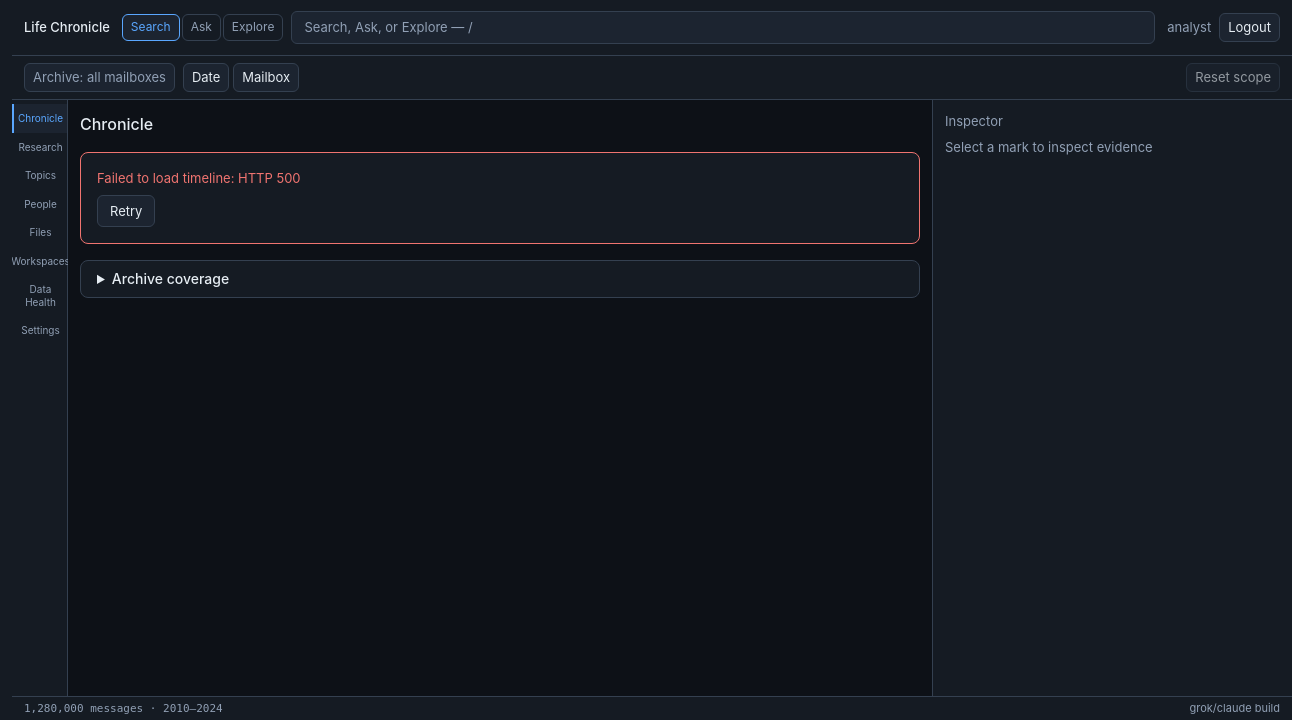
Scenario: ChroniclePage timeline › error → Retry refetches
Expected: the message with test id "timeline-error" shows "Failed to load timeline", [97, 170, 231, 186]
What coordinates should you click on to do the following:
click the button "Retry"
I would click on:
 (126, 211)
Its box is [97, 195, 155, 227].
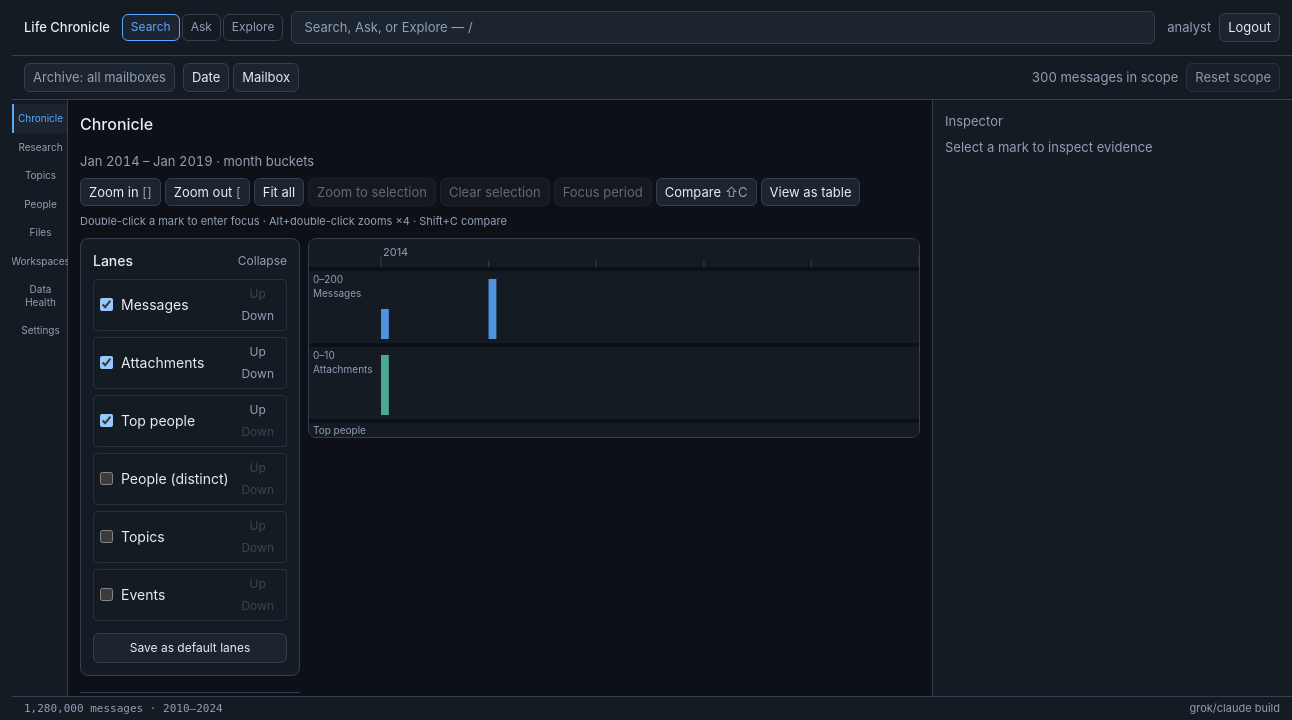
Expected: the message with test id "timeline-error" is gone
